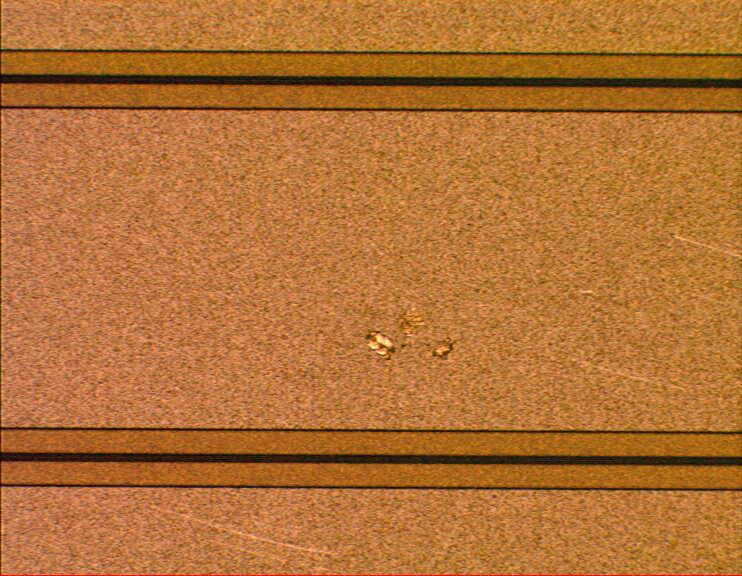SCRATCH: (346, 294, 483, 377)
